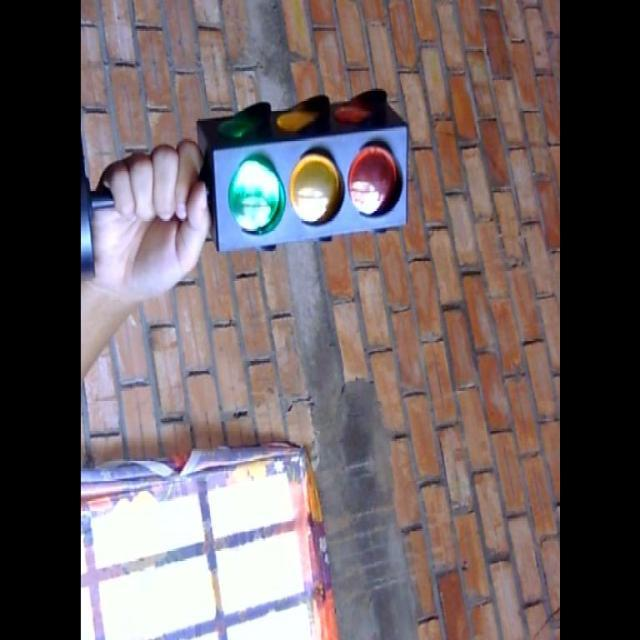green light: (226, 157, 286, 236)
